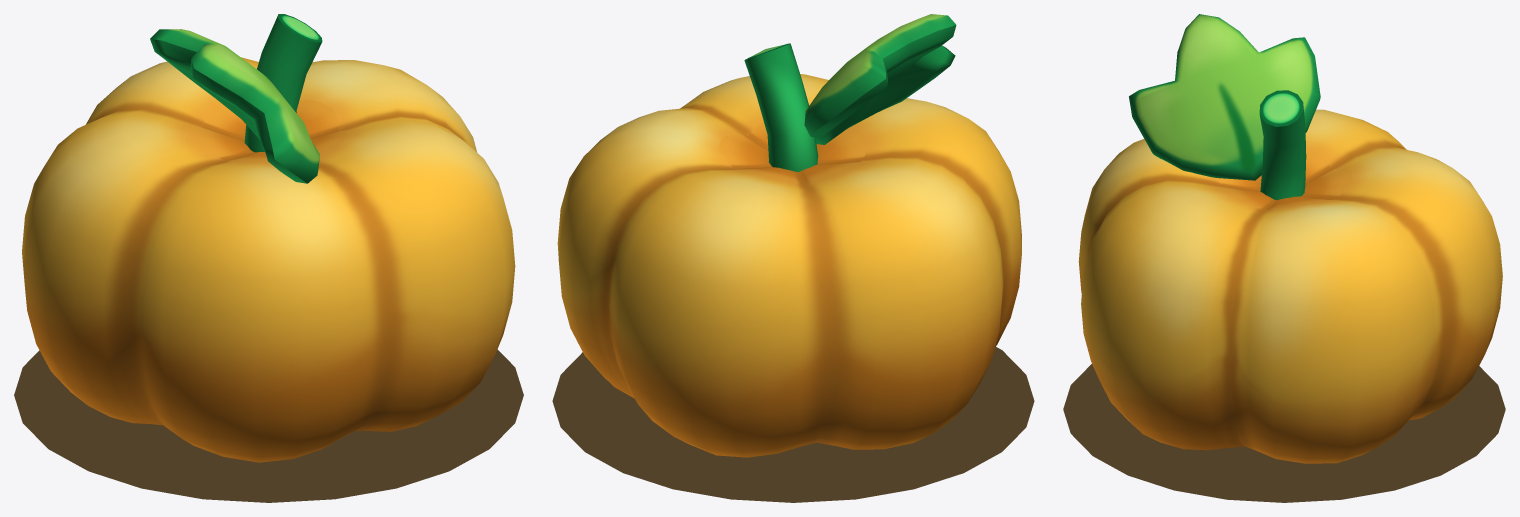
The model's file is Pumpkin_L04.fbx.
3 views of the same model, side by side, from view 1: azimuth 30°, elevation 25°; view 2: azimuth 150°, elevation 25°; view 3: azimuth 270°, elevation 25° (orthographic). The views are drawn at different scales.
Parts seen in each view (by area): view 1: PumpkinL4_body, WT_PumpkinL4_SDW; view 2: PumpkinL4_body, WT_PumpkinL4_SDW; view 3: PumpkinL4_body, WT_PumpkinL4_SDW.
Part boxes in pixels (bbox=[...]): PumpkinL4_body: bbox=[22, 14, 515, 462]; WT_PumpkinL4_SDW: bbox=[14, 349, 523, 502]; PumpkinL4_body: bbox=[557, 14, 1021, 457]; WT_PumpkinL4_SDW: bbox=[552, 347, 1034, 502]; PumpkinL4_body: bbox=[1078, 14, 1502, 463]; WT_PumpkinL4_SDW: bbox=[1063, 364, 1505, 502].
Bounding box in the file's own units: 68.85 × 59.55 × 68.85.
Materials: 2 (1 with a texture image).
